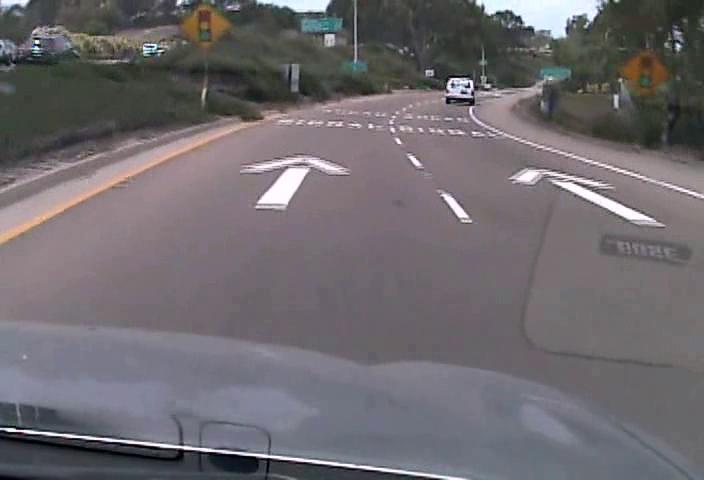signalAhead: (177, 2, 231, 51)
